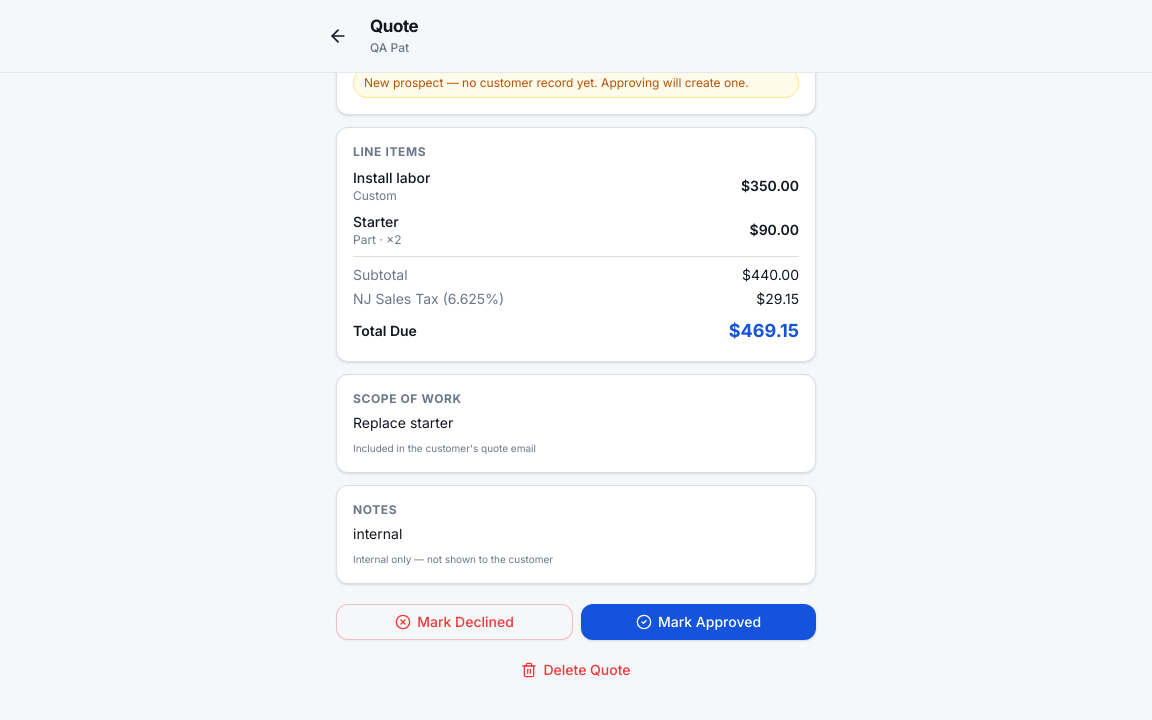
B1 approve -> Schedule this job › a stale screen (quote approved elsewhere) does not create a second job
(page scrolled)
Click the button "Mark Approved". click: (698, 622)
box: [581,604,816,640]
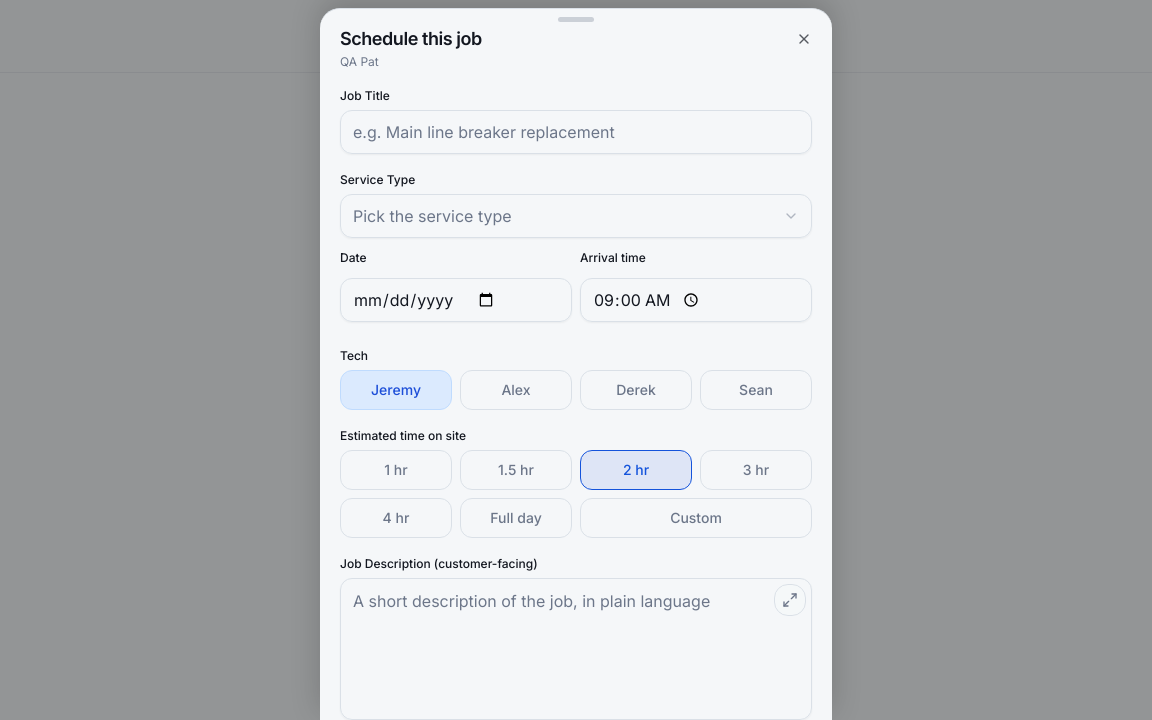
Result: the heading "Schedule this job" is shown at [340,28,482,49]
